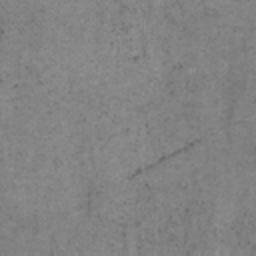Finishing roll printing: (131, 136, 205, 177)
